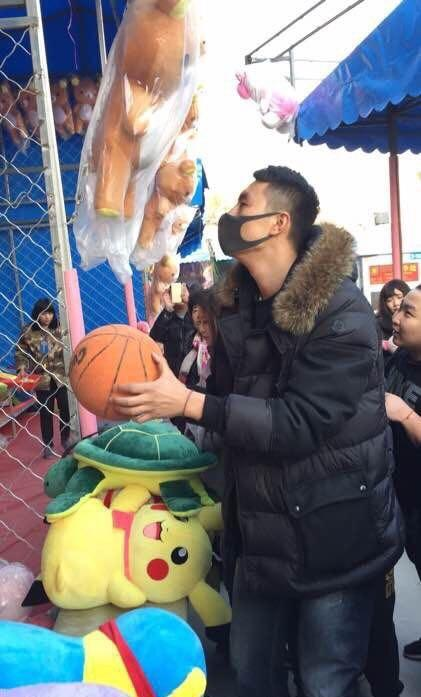NONE: (392, 303, 421, 347), (200, 315, 228, 347), (388, 294, 407, 317), (43, 312, 57, 326)
WRONG: (215, 183, 286, 259)
